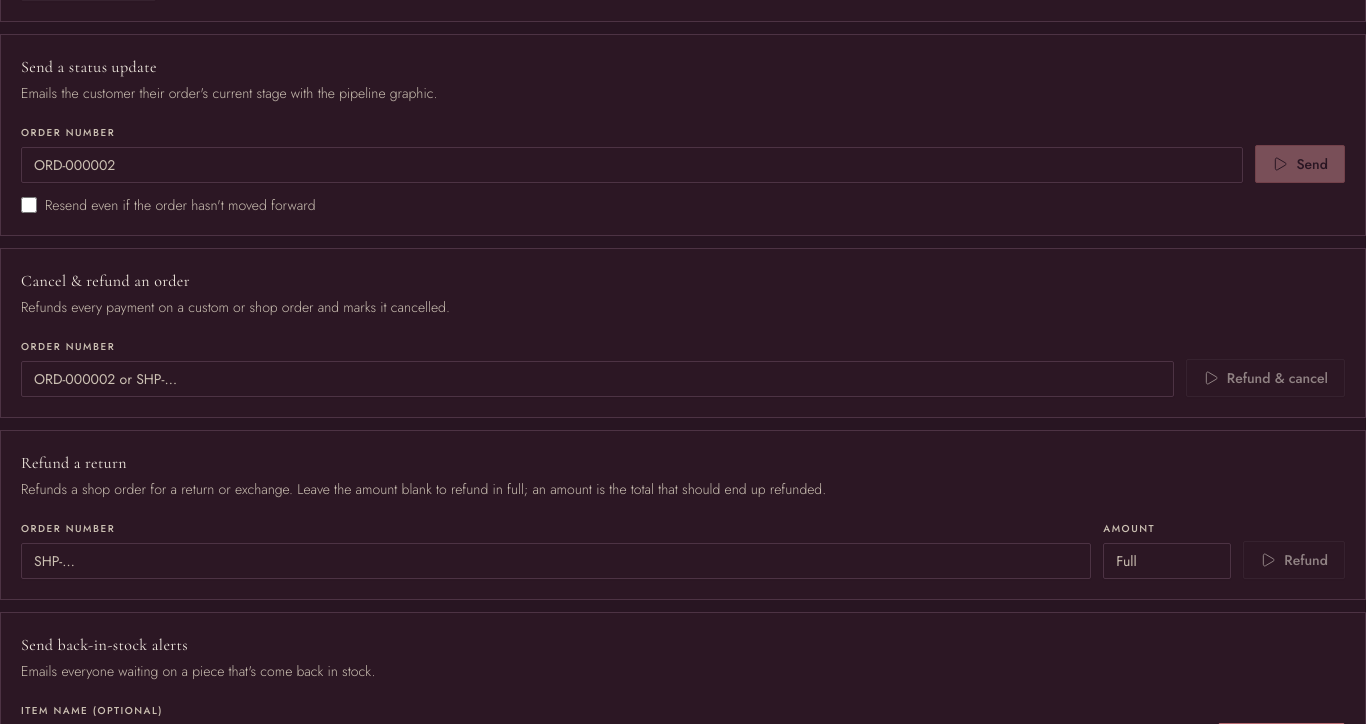
Test: StudioTools › shows the server's notes under a run that needs attention
This screenshot has width=1366, height=724.
(page scrolled)
Type "ORD-000002" into the field with test id "tool-cancellation-refund-order".
click(597, 379); type("ORD-000002")  # box 21,361 -> 1174,397
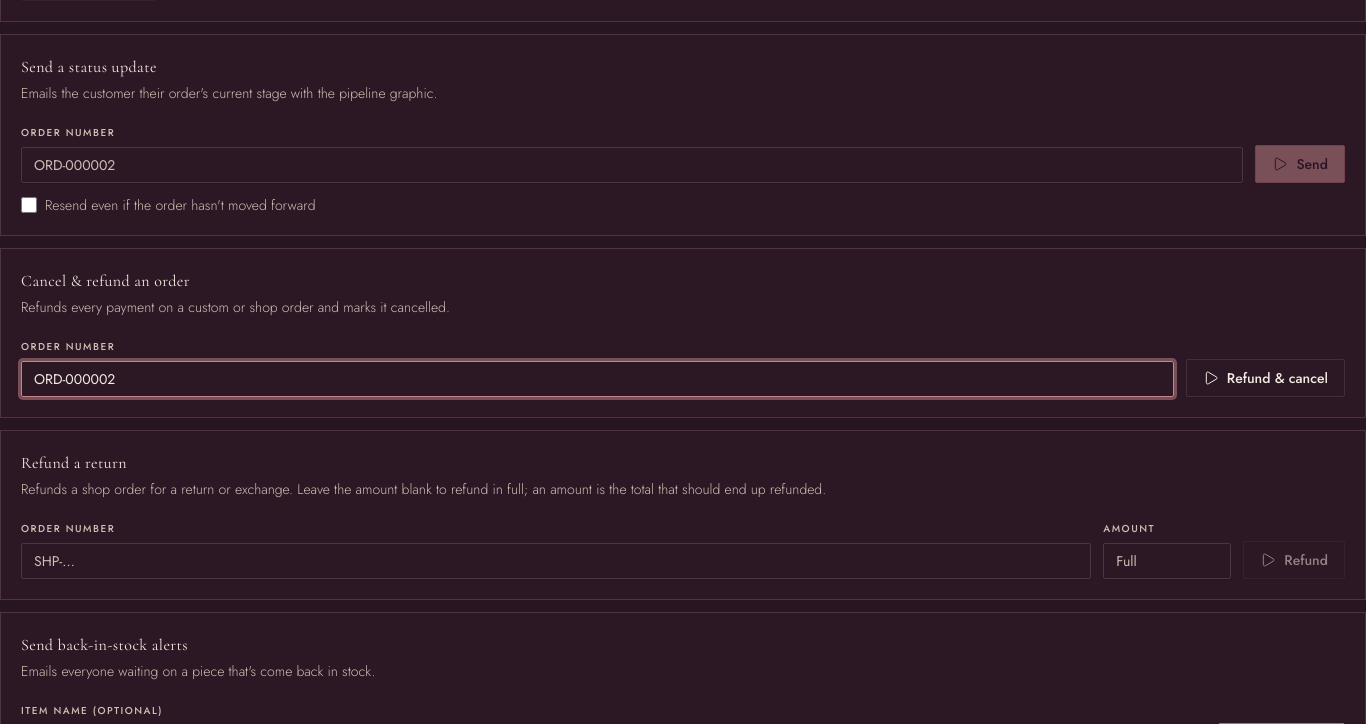
Click the button with test id "tool-cancellation-refund-run".
click(1265, 378)  # box 1186,359 -> 1345,397
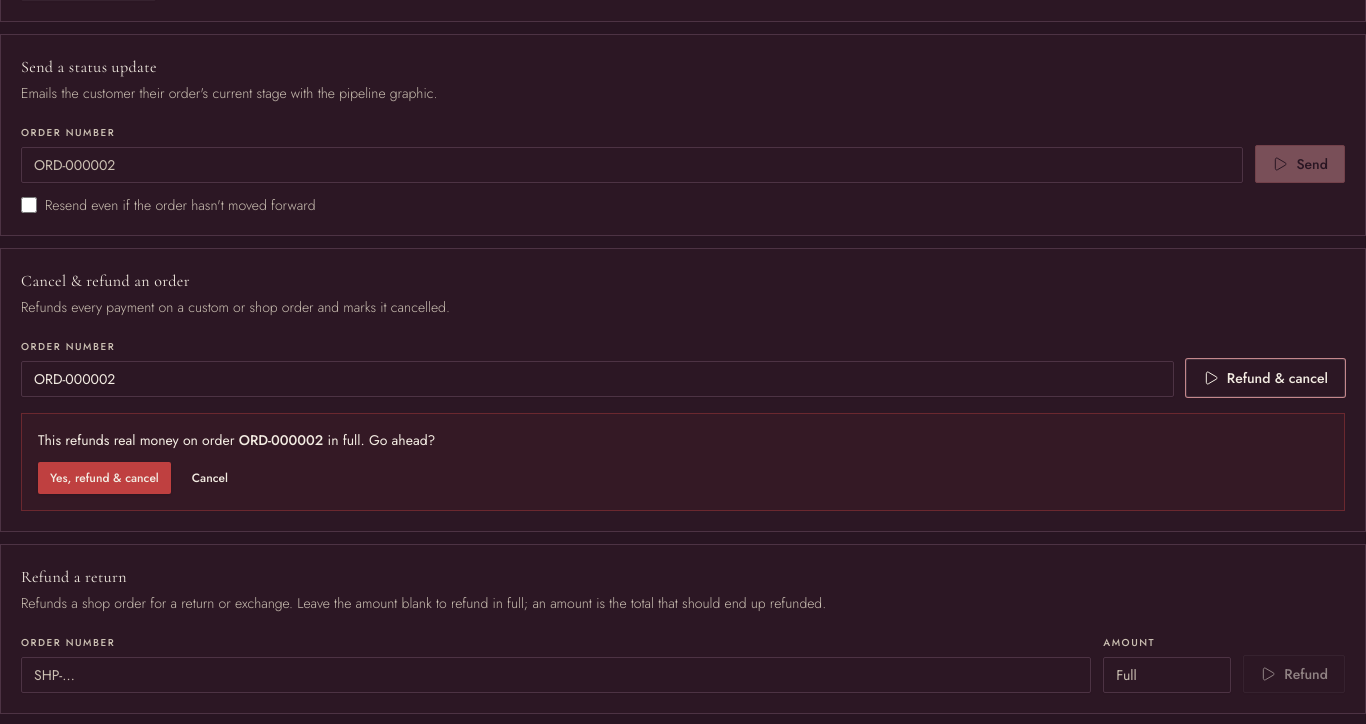
Click the button with test id "tool-cancellation-refund-confirm-yes".
click(104, 478)  # box 38,462 -> 171,494
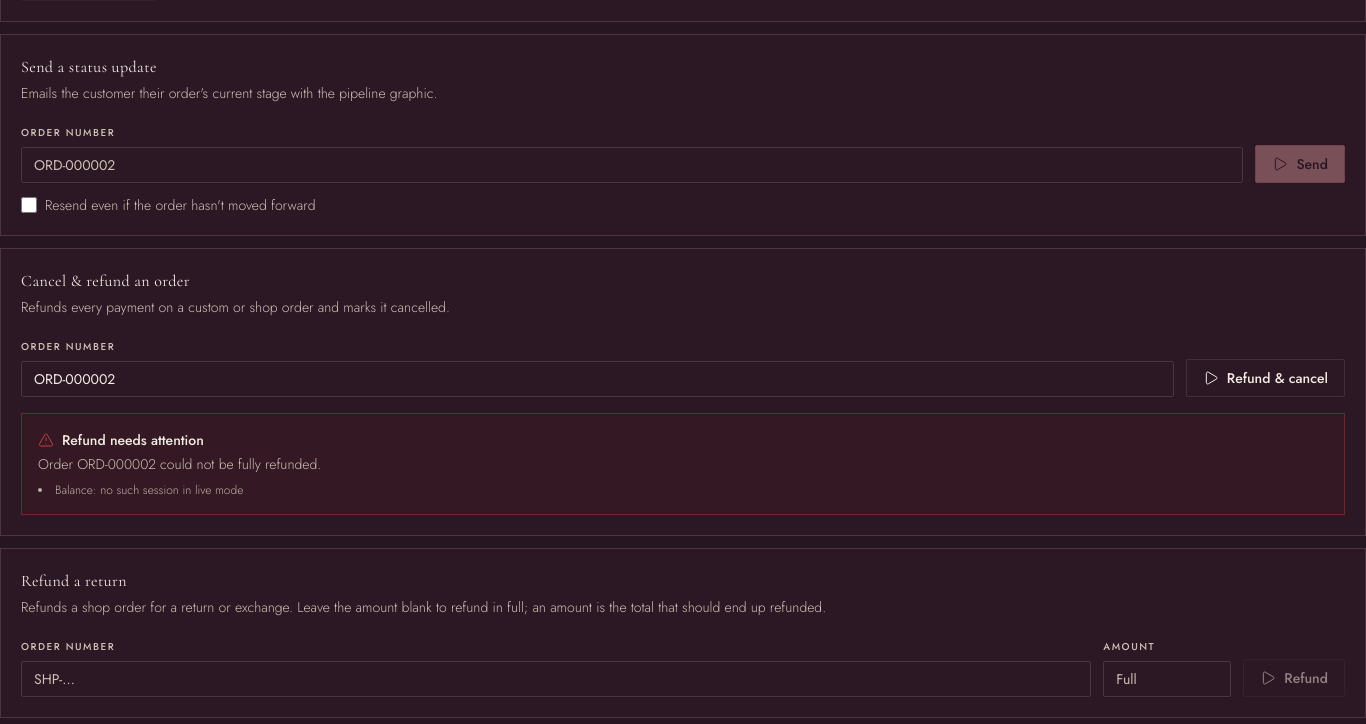
Now the element with test id "tool-cancellation-refund-result" shows "Refund needs attention", box 62,430 -> 204,450
Now the element with test id "tool-cancellation-refund-result" shows "no such session in live mode", box 55,481 -> 243,499
